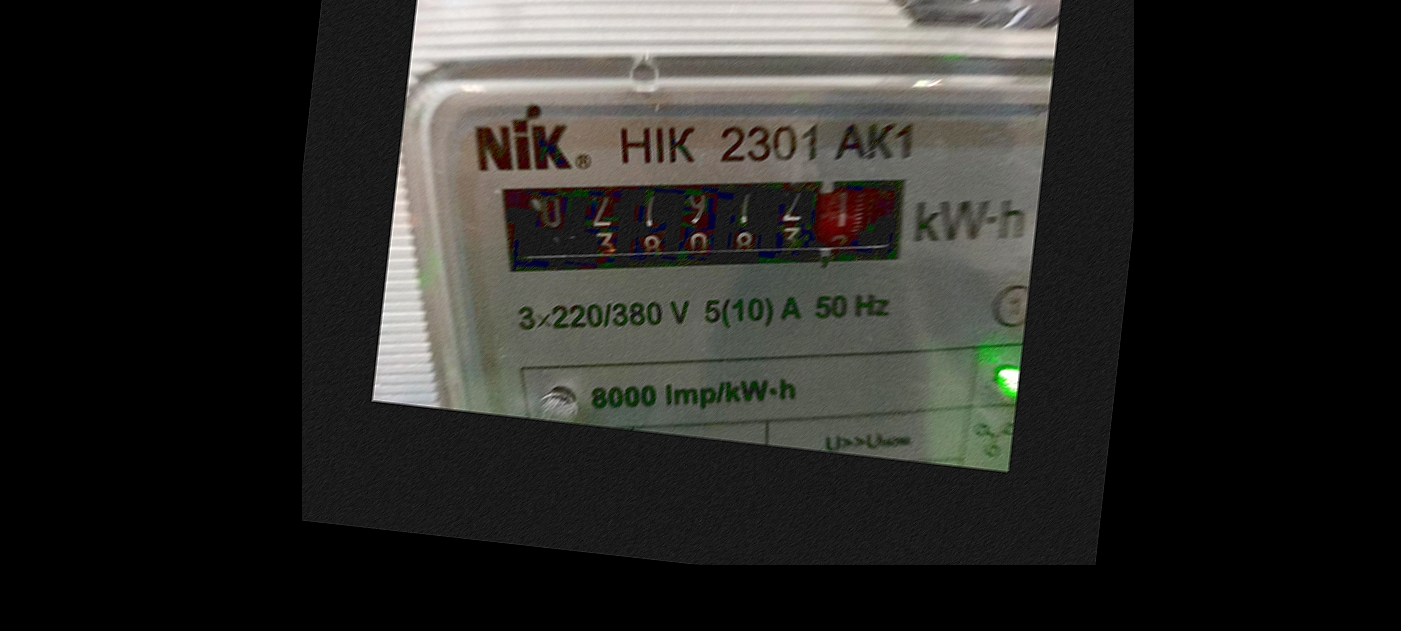0: (536, 189, 568, 228)
1: (831, 185, 858, 230)
2: (586, 186, 619, 228), (778, 183, 809, 223)
7: (730, 183, 760, 226), (636, 188, 663, 228)
9: (684, 187, 714, 224)
screen: (476, 123, 943, 326)
